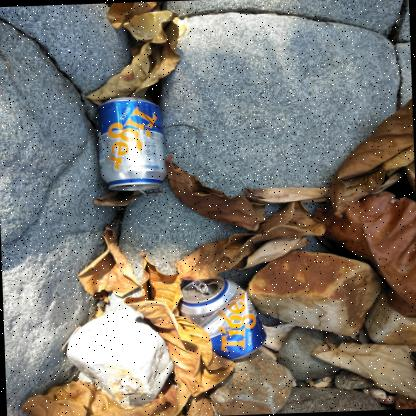Drink can: (178, 275, 266, 360), (96, 97, 167, 191)
Pop tab: (193, 279, 208, 294), (131, 185, 148, 196)
